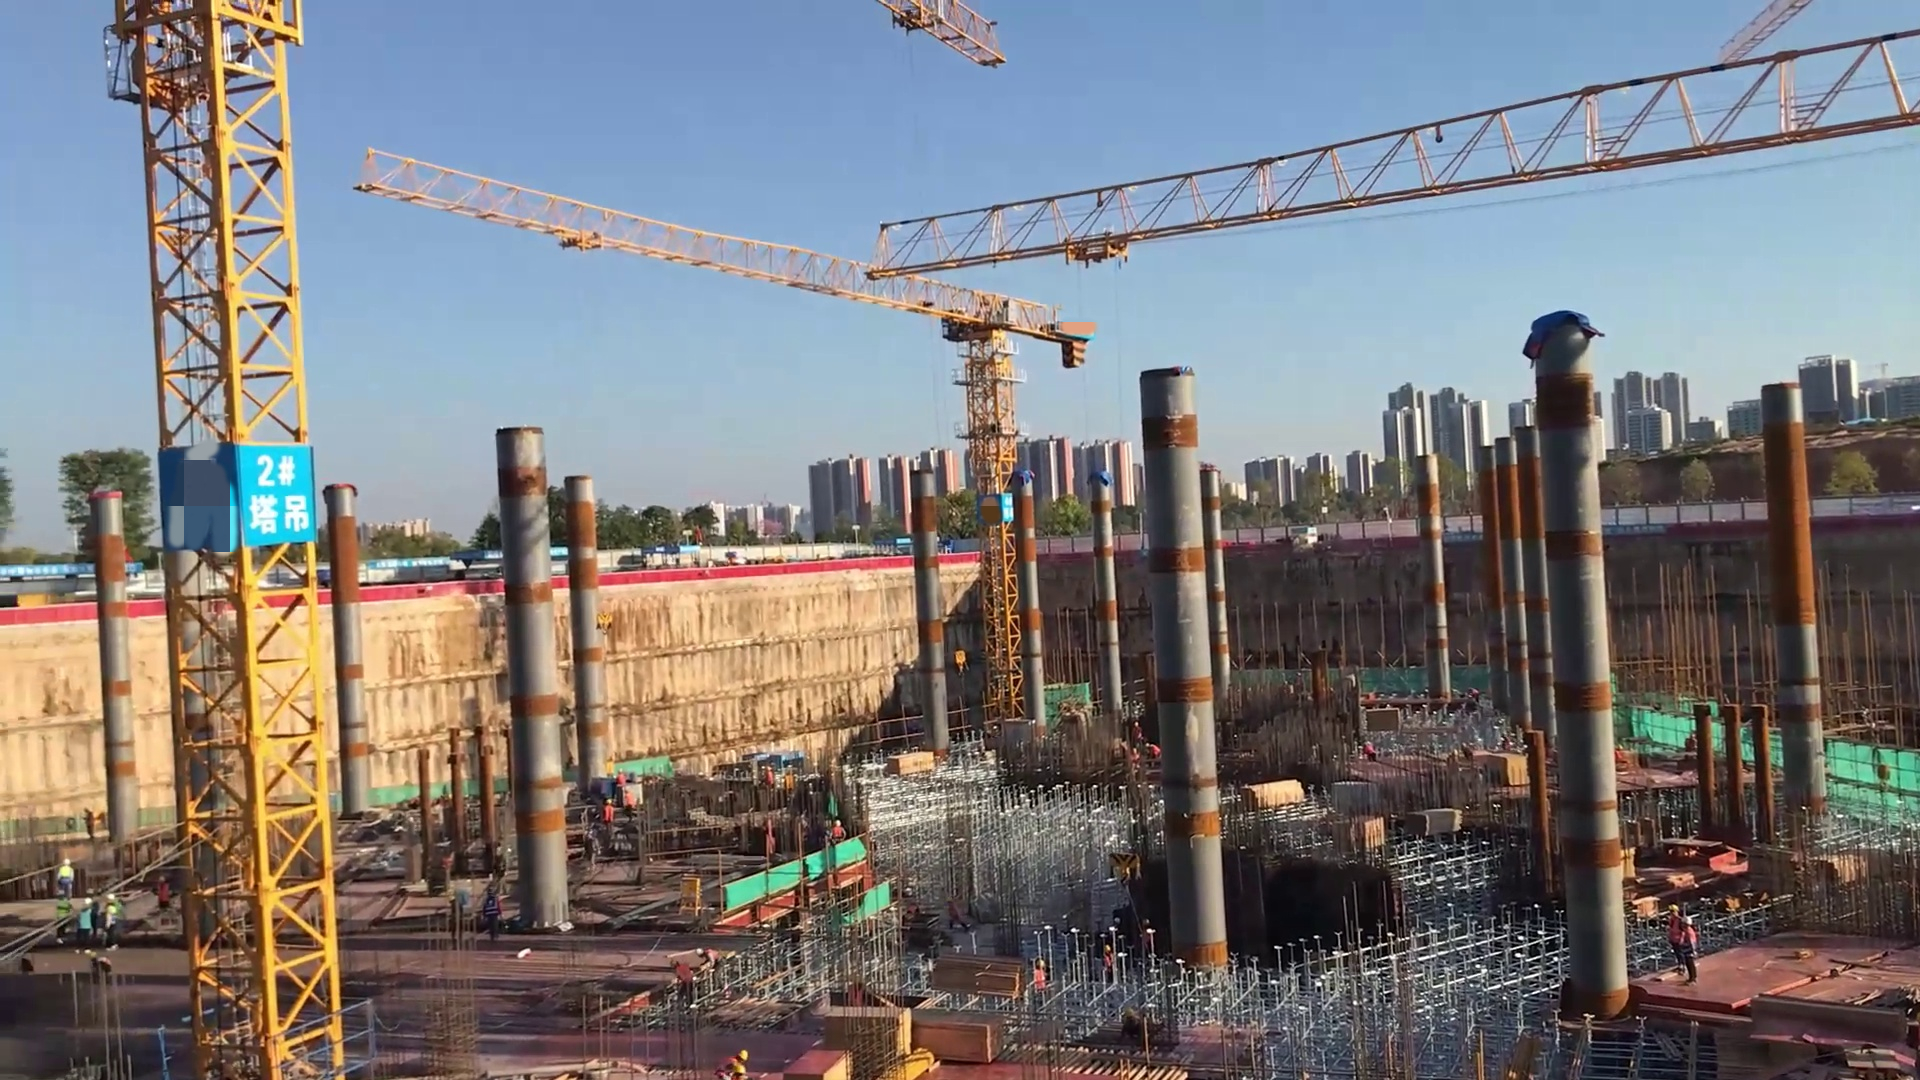board: (826, 1002, 913, 1065), (788, 1044, 861, 1078), (1484, 751, 1532, 789)
ebox: (676, 871, 713, 920)
helmet: (666, 956, 685, 970), (1034, 959, 1050, 972), (106, 892, 118, 908), (733, 1050, 750, 1062), (1681, 915, 1696, 929), (82, 896, 94, 911), (61, 857, 75, 869), (445, 893, 458, 904), (1668, 905, 1681, 917), (486, 886, 497, 896), (605, 800, 617, 808), (834, 821, 844, 830)
hook: (591, 607, 616, 642), (947, 649, 969, 678)
person: (666, 953, 699, 1011), (1680, 915, 1702, 988), (50, 894, 75, 952), (712, 1049, 755, 1080), (1667, 902, 1685, 971), (482, 882, 503, 945), (446, 890, 465, 954), (77, 895, 93, 960), (103, 890, 117, 957), (153, 873, 173, 922), (57, 857, 77, 903), (584, 827, 600, 875), (1031, 957, 1048, 1000), (1143, 739, 1165, 771), (84, 806, 100, 845), (1100, 942, 1116, 981), (623, 787, 638, 821), (615, 764, 628, 805), (762, 759, 775, 799), (830, 818, 846, 848), (1361, 737, 1378, 768), (603, 798, 615, 834), (1131, 718, 1143, 751)
slogan: (220, 441, 336, 546), (1602, 522, 1666, 537), (1442, 530, 1484, 545)
vest: (673, 962, 696, 988), (1682, 926, 1699, 960), (1664, 919, 1681, 950), (484, 895, 502, 923), (156, 882, 172, 907), (57, 865, 72, 889), (80, 908, 93, 933), (1032, 971, 1047, 993)
wood: (903, 1009, 1009, 1063), (931, 951, 1028, 995), (881, 744, 947, 797), (1237, 775, 1313, 815), (1403, 802, 1464, 841)
